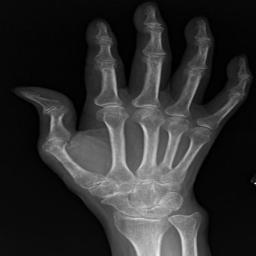cancer: (66, 135, 111, 178)
